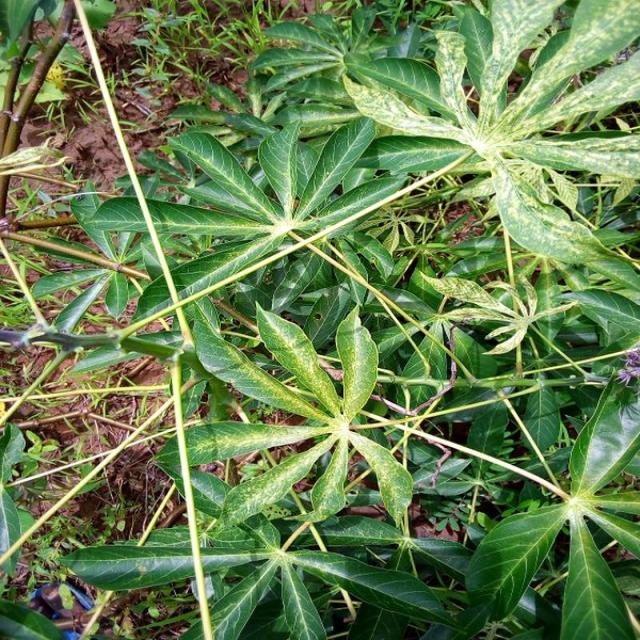cassava leaf: (8, 1, 638, 637)
